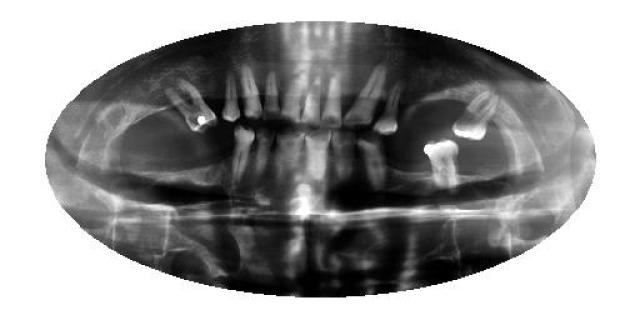Fillings: (165, 77, 220, 135)
